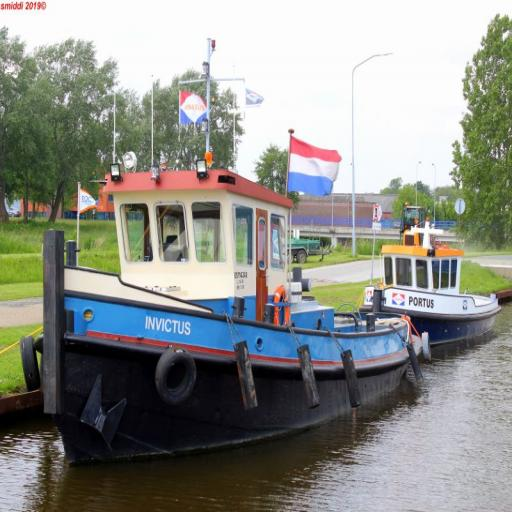tugboat: (17, 36, 432, 476), (357, 216, 506, 355)
